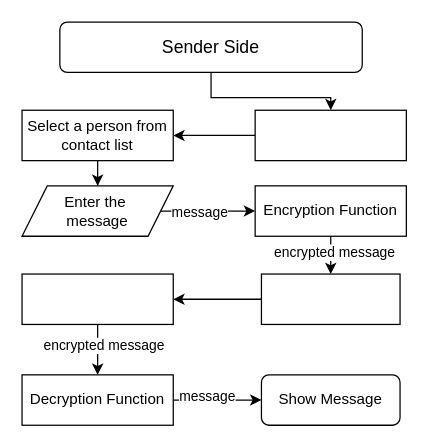
This 428x447 diagram has some shape labels left out. Here are the shapes that lost their labels. From the top down, the box of each, then its label:
(254, 109, 406, 161): Add Contact using name and IP
(21, 273, 173, 324): Receiver Side
(260, 273, 400, 324): Open Socket using IP and send
